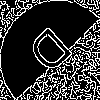D: (25, 25, 82, 82)
